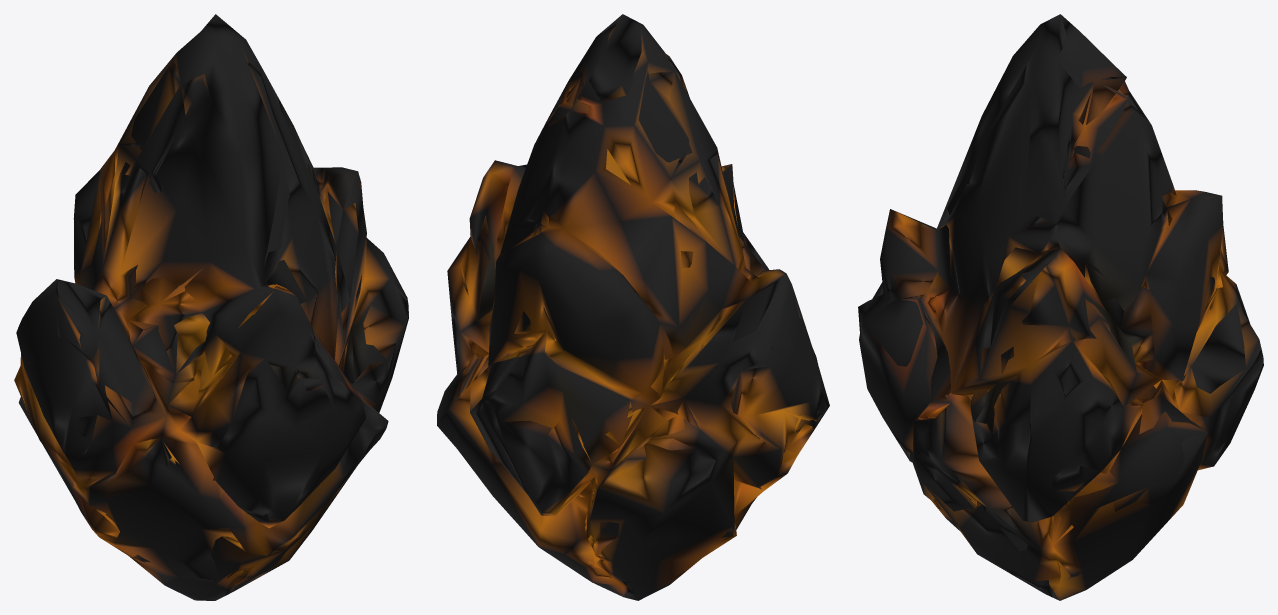
Rendered from gen3d-magma-crystal-lod0.glb.
3 views of the same model, side by side, from view 1: azimuth 30°, elevation 25°; view 2: azimuth 150°, elevation 25°; view 3: azimuth 270°, elevation 25° (orthographic).
Visible parts, largest first — view 1: part_0; view 2: part_0; view 3: part_0.
Part boxes in pixels (x1,y1,x2,y2): part_0: (14, 14, 408, 600); part_0: (437, 14, 829, 600); part_0: (858, 14, 1263, 600).
Size of the model in its own units: 0.6379 by 0.9953 by 0.6235.
